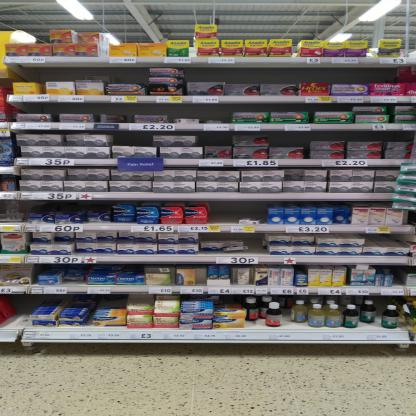Void: (184, 68, 394, 80), (19, 103, 156, 114), (209, 234, 265, 255), (0, 295, 34, 328), (24, 65, 94, 81), (214, 203, 262, 225), (312, 132, 413, 140), (173, 104, 229, 118), (240, 105, 353, 111), (117, 132, 151, 146), (273, 132, 303, 146), (369, 234, 405, 245), (118, 67, 141, 81), (202, 134, 231, 144), (394, 264, 403, 284)
